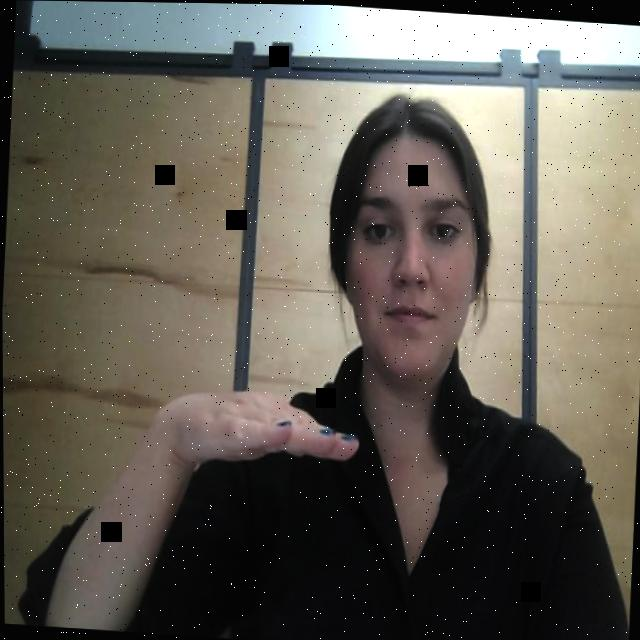Paper: (168, 367, 364, 500)
